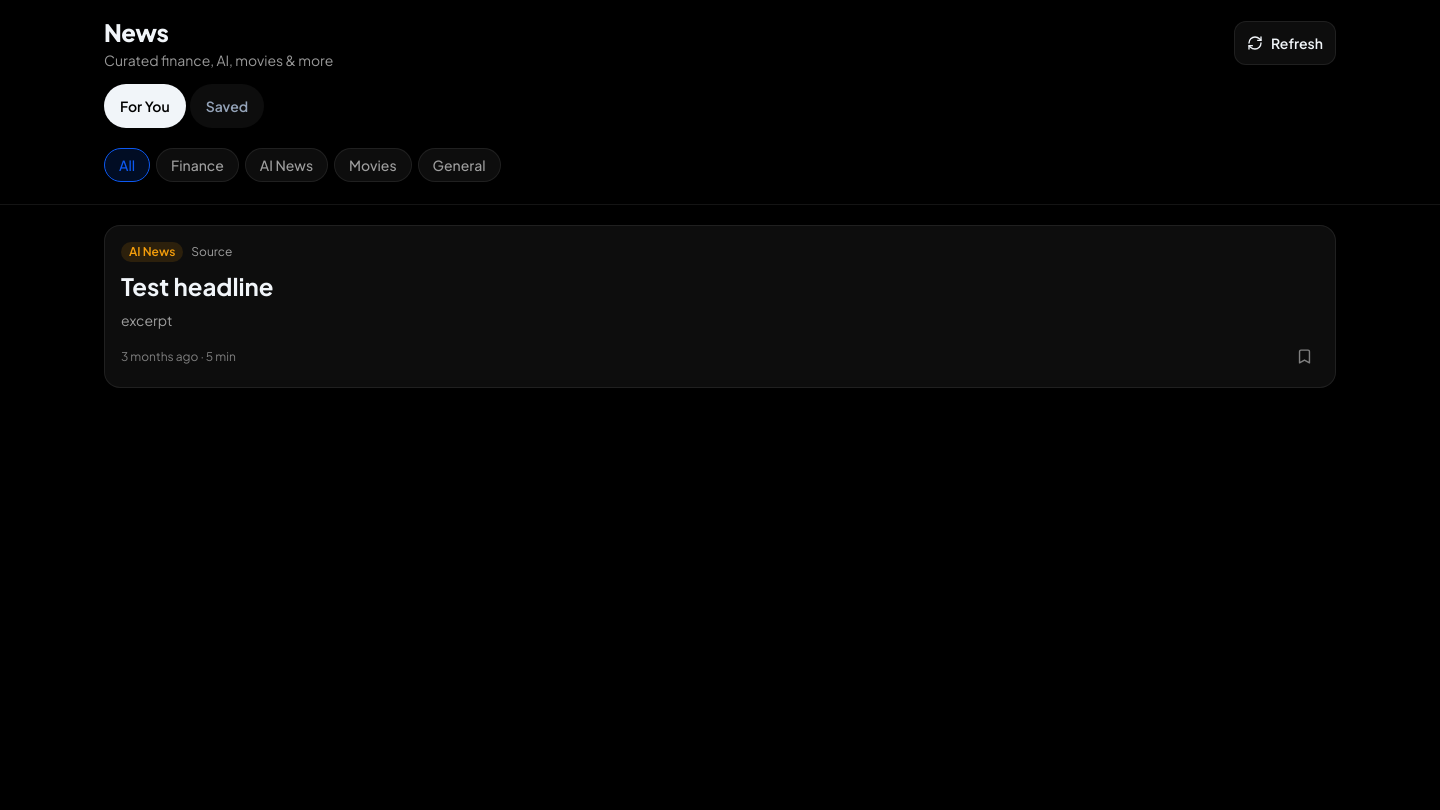
Test case: NewsPage → ArticleReader save state › flips the pill to "Saved" without closing and reopening the reader
This screenshot has width=1440, height=810.
Click the heading "Test headline".
click(197, 286)  # box [121,271,274,301]
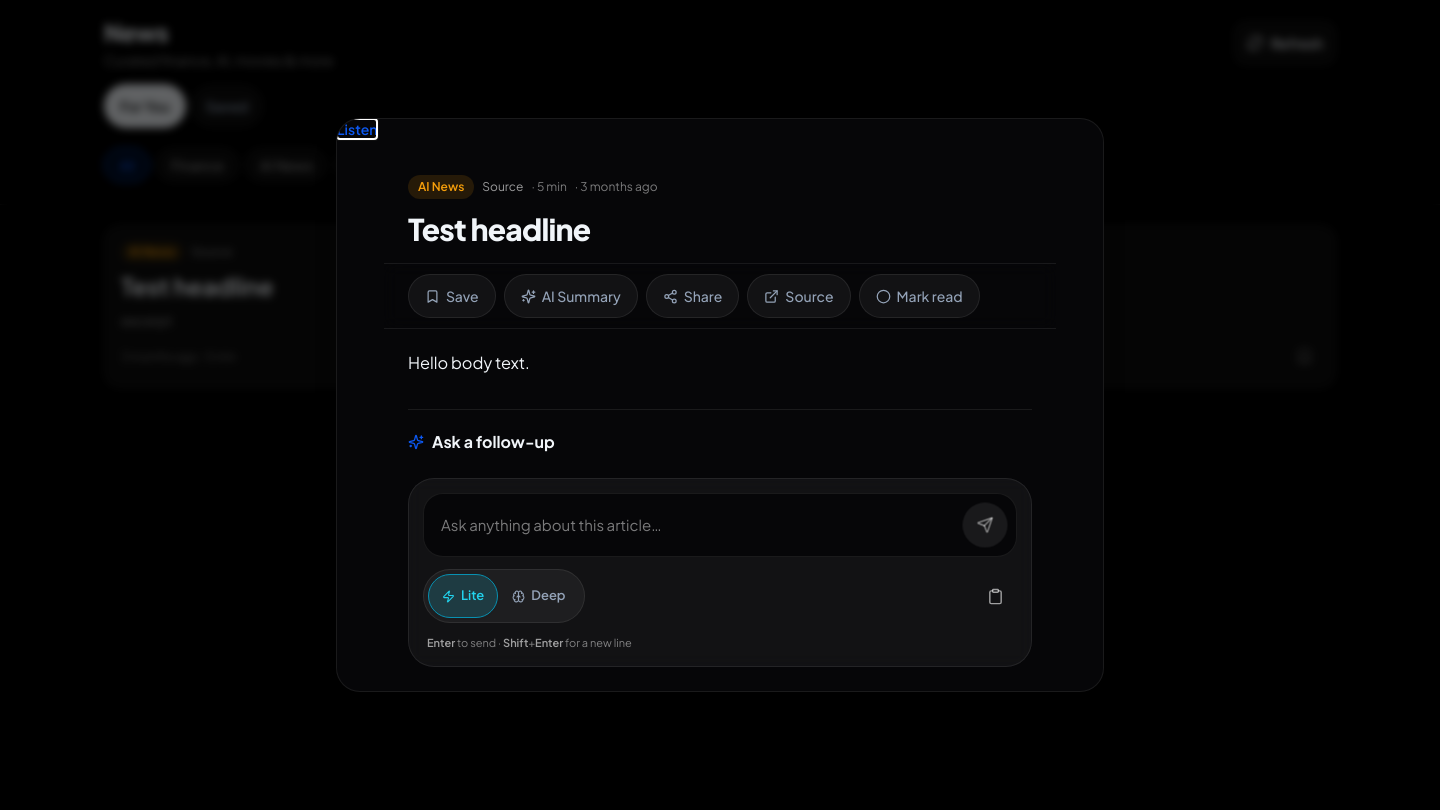
Expected: the button "Save" is shown
Click the button "Save".
click(452, 296)  # box [408,274,496,318]
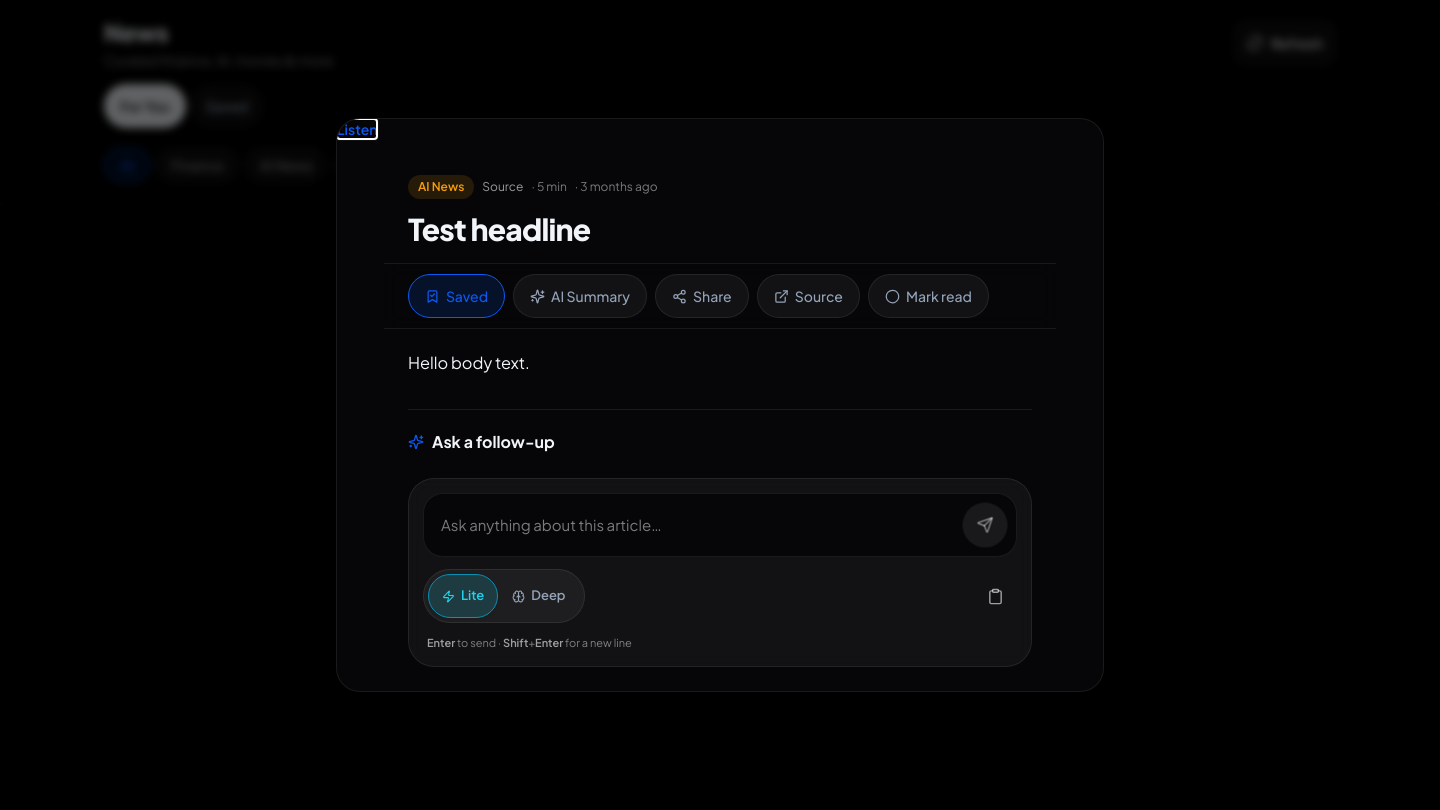
Expected: the button "Saved" is shown, [408,274,505,318]
